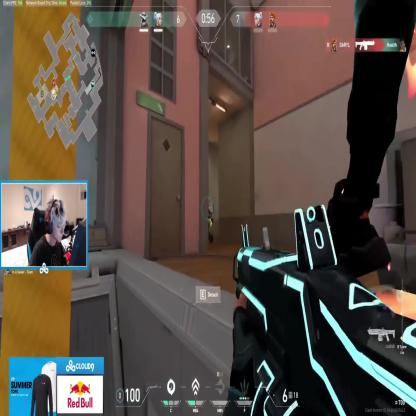enemy: (204, 200, 214, 246)
